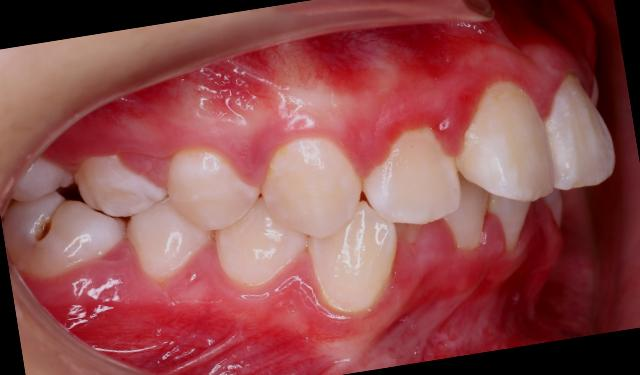canine class II 1/4: (197, 105, 409, 337)
